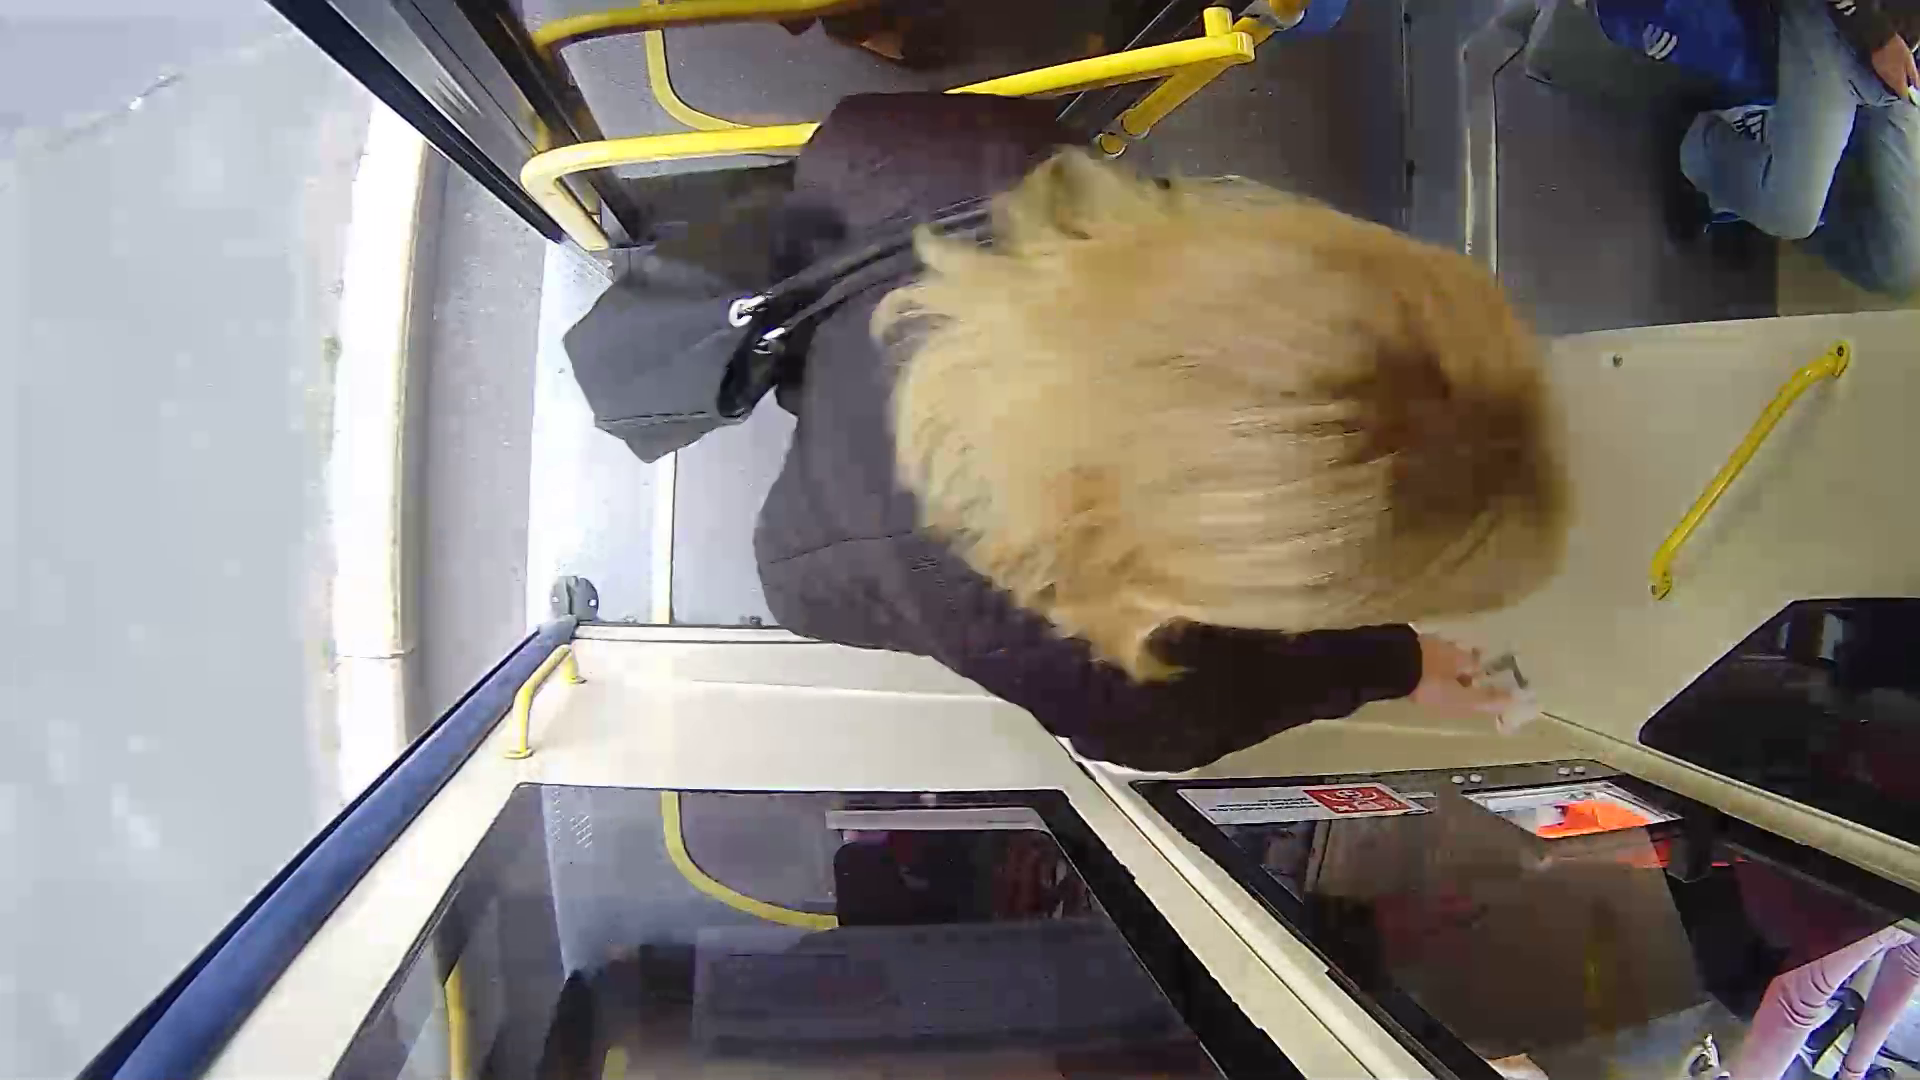person: (692, 154, 1551, 742)
